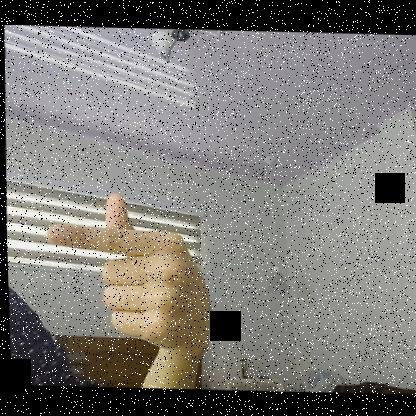T: (42, 188, 213, 360)
